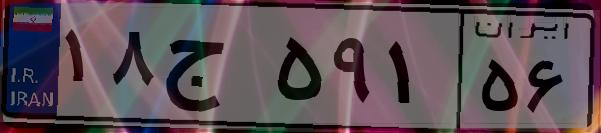1: (385, 28, 445, 110), (57, 26, 110, 100)
5: (270, 28, 330, 110), (475, 38, 525, 113)
6: (525, 38, 570, 115)
8: (110, 28, 158, 98)
9: (330, 28, 385, 110)
ج: (158, 20, 270, 120)
